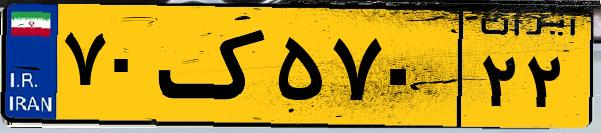0: (385, 28, 445, 110), (110, 28, 158, 98)
2: (475, 38, 525, 113), (525, 38, 570, 115)
5: (270, 28, 330, 110)
7: (330, 28, 385, 110), (57, 26, 110, 100)
ک: (158, 12, 270, 120)
